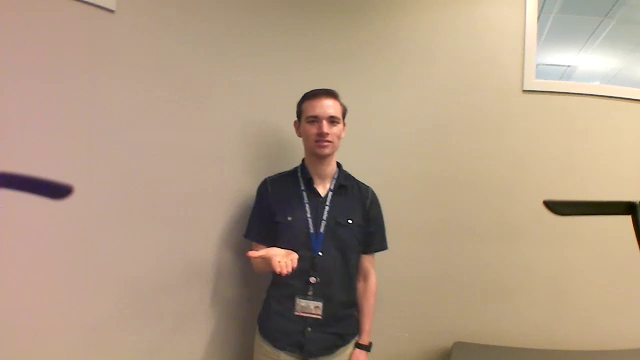land: (234, 240, 303, 282)
